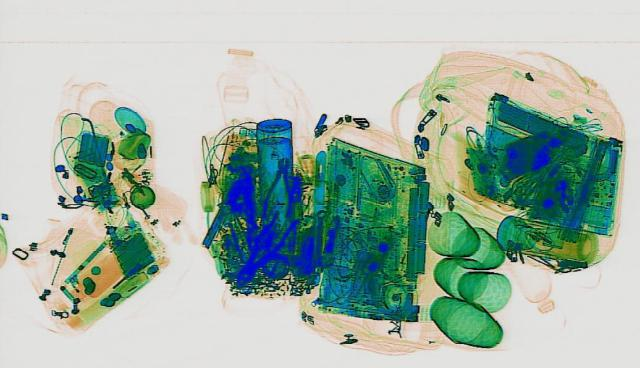Pliers: (223, 210, 301, 287), (262, 156, 296, 218)
